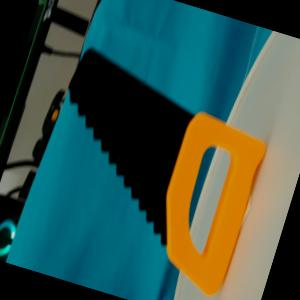serrote: (19, 43, 280, 300)
